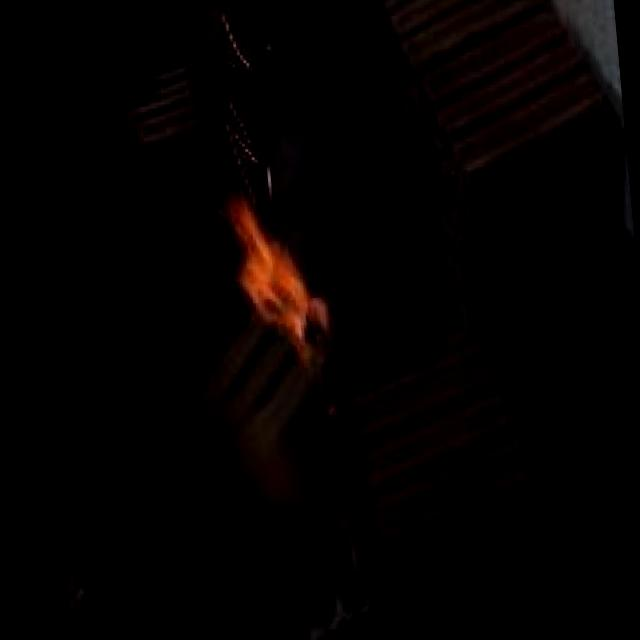fire: (190, 99, 353, 384)
